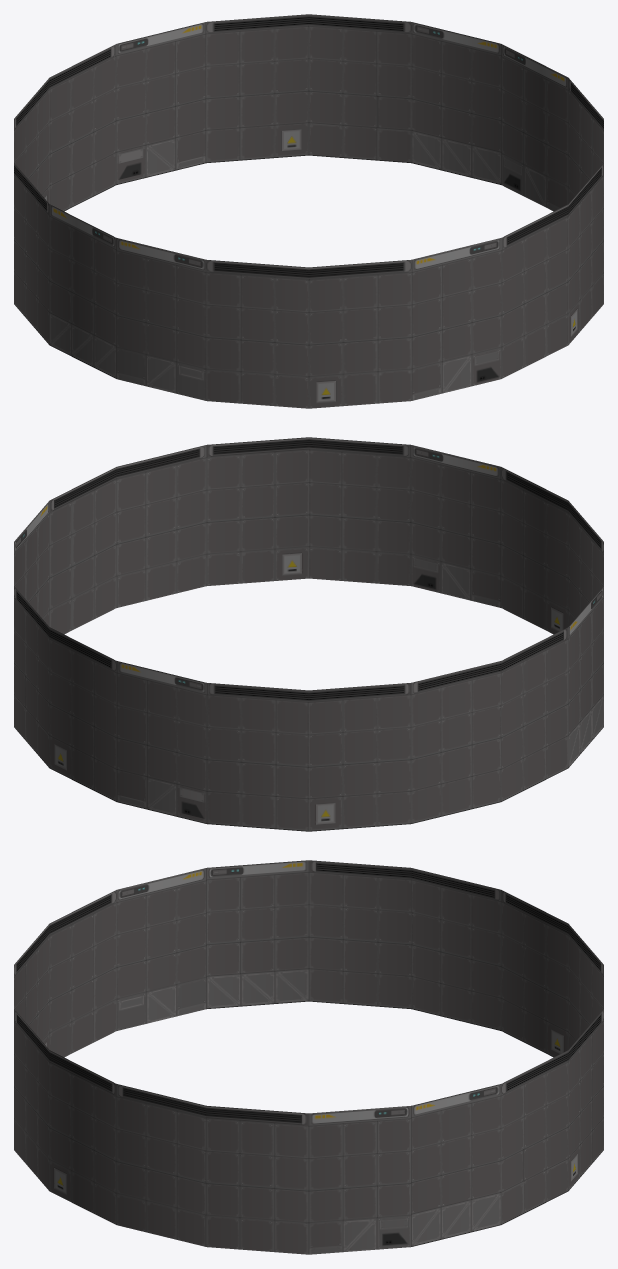
The model's file is Wall (2).FBX.
3 views of the same model, one above another, from view 1: azimuth 30°, elevation 25°; view 2: azimuth 150°, elevation 25°; view 3: azimuth 270°, elevation 25° (orthographic).
Visible parts, largest first — view 1: Cylinder001; view 2: Cylinder001; view 3: Cylinder001.
Part boxes in pixels (x1,y1,x2,y2): Cylinder001: (14, 14, 603, 408); Cylinder001: (14, 437, 603, 831); Cylinder001: (14, 860, 603, 1254).
Size of the model in its own units: 2920 by 760 by 2876.
